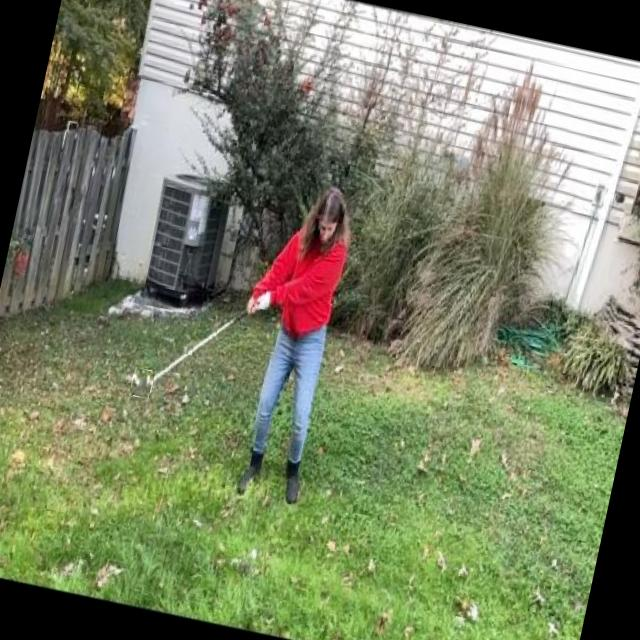club head: (128, 368, 154, 400)
